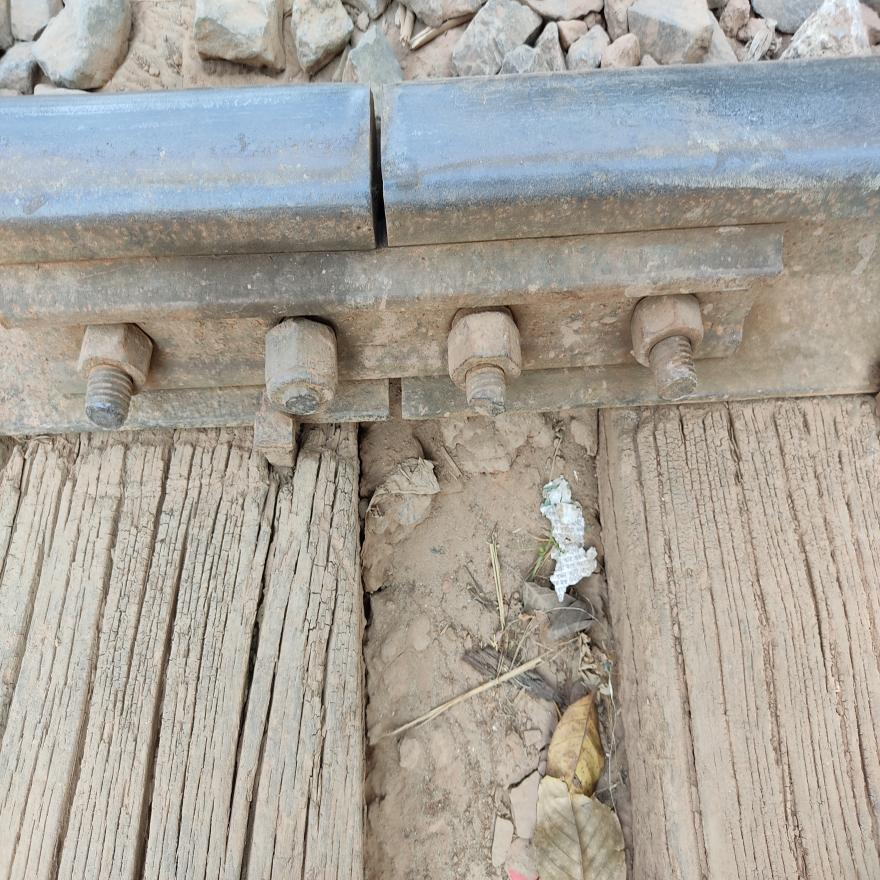railway-gap: (298, 50, 454, 277), (361, 358, 434, 446)
